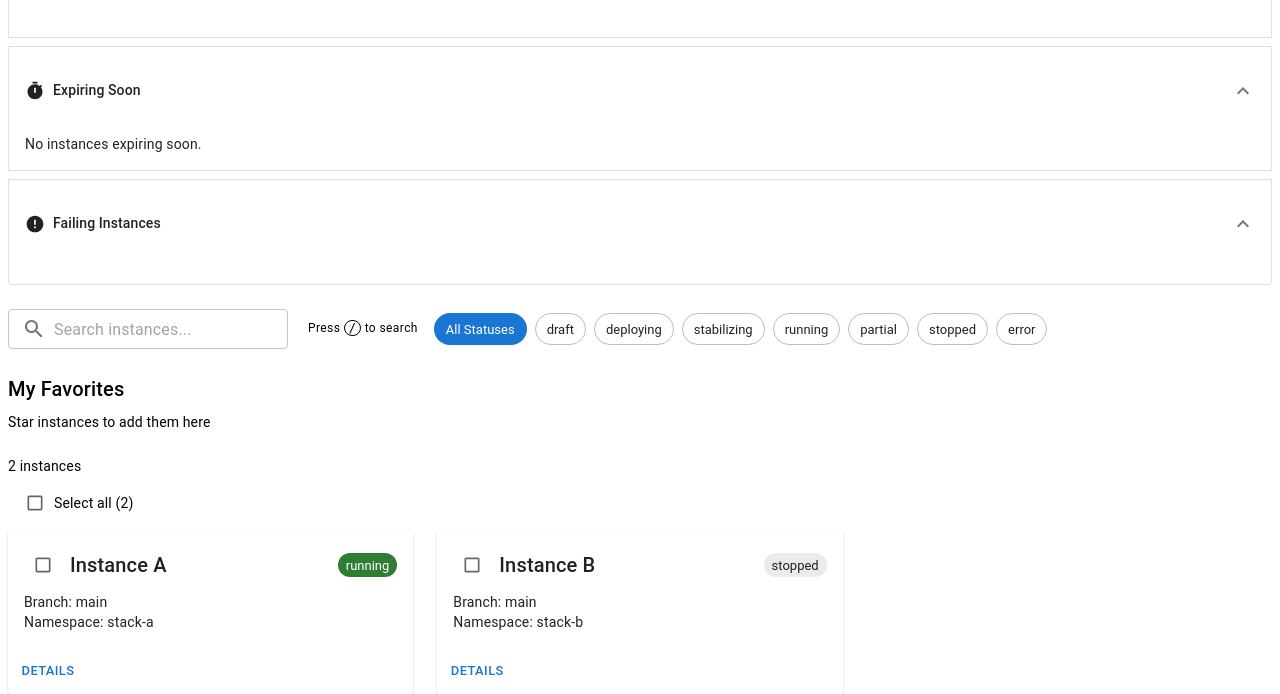
Test: Dashboard › Bulk Operations › shows bulk action toolbar when instances are selected
(page scrolled)
Expected: the heading "Instance A" is shown, 70,549 -> 167,581
// Select one instance
Click the checkbox named "Select Instance A": [43, 565] box 33,555 -> 53,575
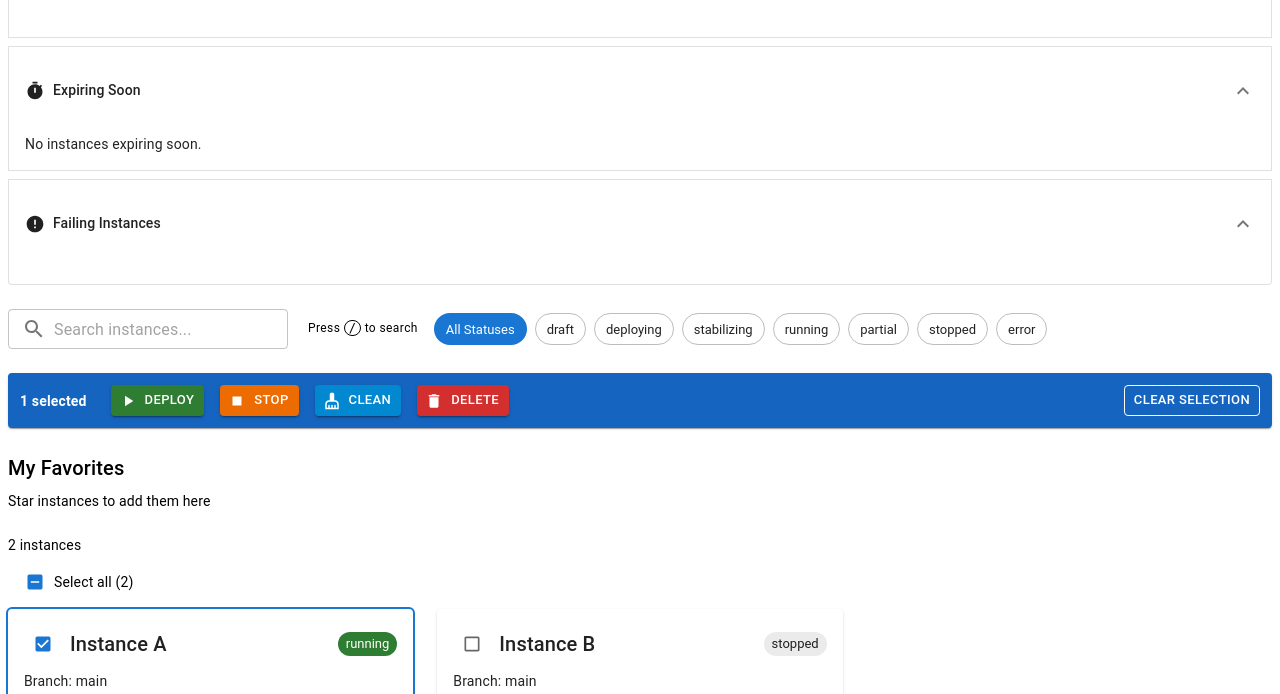
Expected: the element named "Bulk actions" is shown, 8,373 -> 1272,428
Expected: the text "1 selected" is shown, 20,391 -> 87,411
